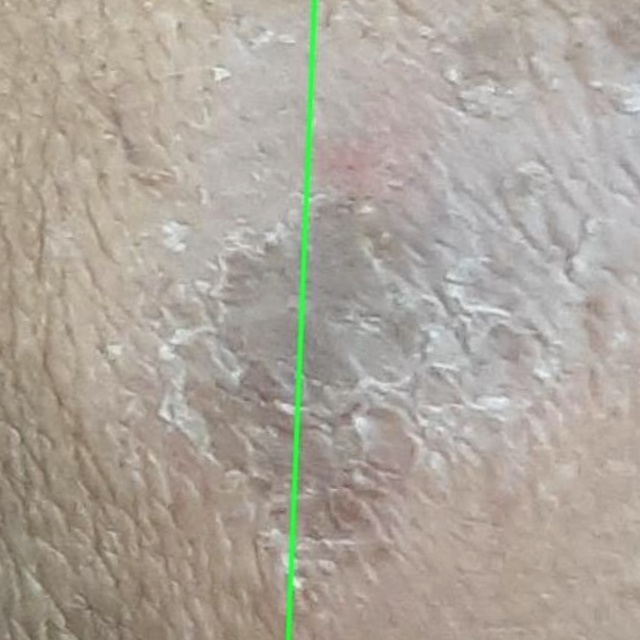Eczema: (0, 0, 313, 639)
